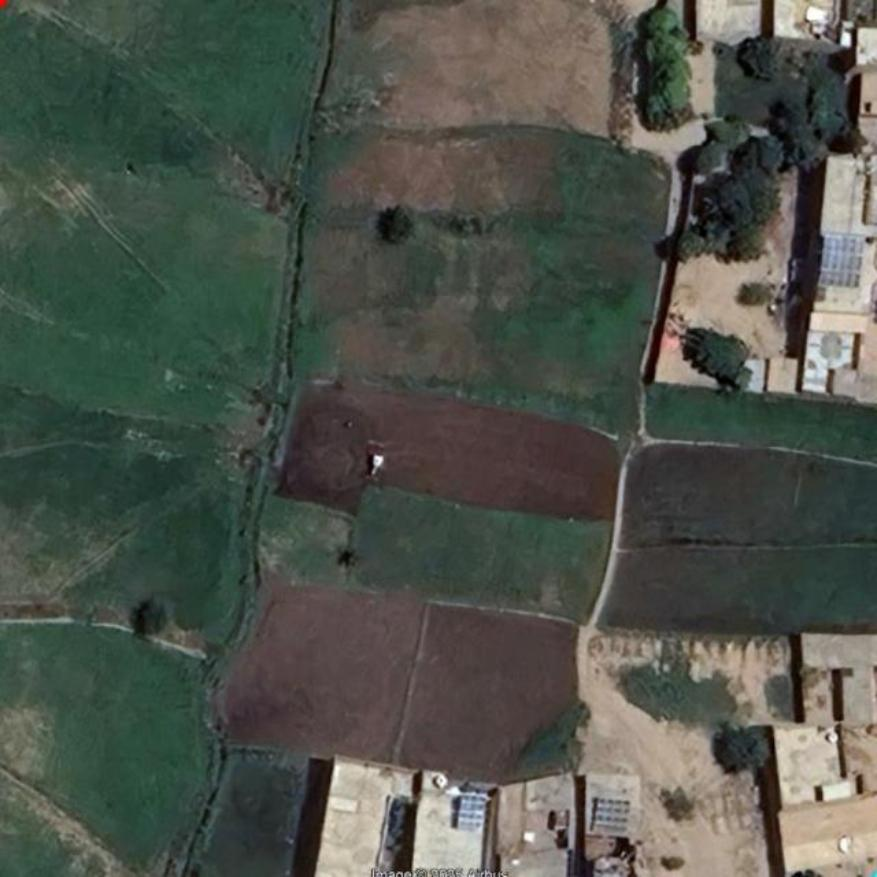Solarpanel: (817, 234, 863, 285), (591, 801, 628, 834), (461, 797, 485, 833)
